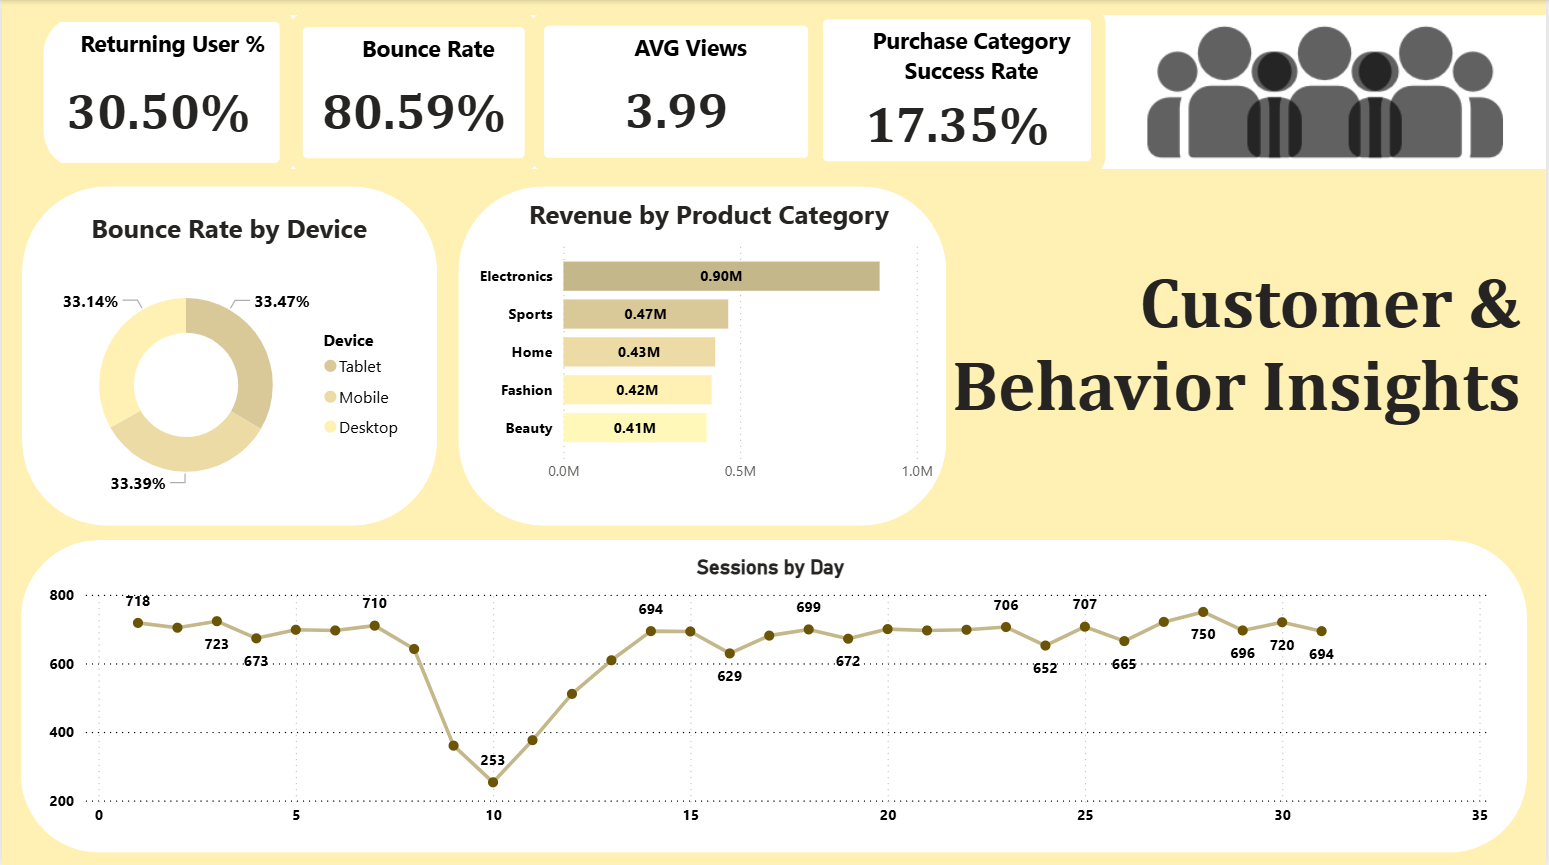

The page's visual inventory and layout, read from the dashboard file:
{"tool":"powerbi","page":{"name":"Customer & Behavior Insights","canvas":[1280,720],"ordinal":2},"visuals":[{"type":"shape","box":[16.3,154.7,344.2,281.4],"z":0},{"type":"donutChart","fields":{"Category":["realistic_funnel_data.Device"],"Y":["realistic_funnel_data.Bounce Rate"]},"box":[33.7,174.4,308.1,261.6],"z":1000},{"type":"shape","box":[377.9,154.7,404.7,281.4],"z":2000},{"type":"barChart","title":"Revenue by Product Category","fields":{"Category":["realistic_funnel_data.Product_Category"],"Y":["Sum(realistic_funnel_data.Revenue)"]},"box":[389.5,162.8,393,246.5],"z":3000},{"type":"shape","box":[15.1,447.7,1248.8,259.3],"z":4000},{"type":"lineChart","fields":{"Category":["realistic_funnel_data.Date.Variation.Date Hierarchy.Day"],"Y":["realistic_funnel_data.Sessions"]},"box":[33.7,460.5,1205.8,233.7],"z":5000},{"type":"shape","box":[33.7,12.8,1246.5,127.9],"z":6000},{"type":"card","title":"Returning User %","fields":{"Values":["realistic_funnel_data.Returning User %"]},"box":[16.3,5.8,225.6,140.7],"z":7000},{"type":"card","title":"Bounce Rate","fields":{"Values":["realistic_funnel_data.Bounce Rate"]},"box":[237.2,10.5,208.1,132.6],"z":8000},{"type":"card","title":"AVG Views","fields":{"Values":["realistic_funnel_data.Average Views per User"]},"box":[437.2,9.3,243,133.7],"z":9000},{"type":"card","title":"Purchase Category Success Rate","fields":{"Values":["realistic_funnel_data.Product Category Success Rate"]},"box":[668.6,4.7,246.5,141.9],"z":10000},{"type":"textbox","box":[686,210.5,577.9,225.6],"z":11000},{"type":"image","box":[929.1,16,167.4,122.1],"z":12000},{"type":"image","box":[1096.5,16,167.4,122.1],"z":13000},{"type":"image","box":[1012.8,16,167.4,122.1],"z":14000}]}

Visuals, with their boxes in screenshot pixels (x1, y1, x2, y2), scaled from the page's 1280x720 canvas onto the 1549x865 screenshot:
shape: [x1=20, y1=186, x2=436, y2=524]
donutChart - realistic_funnel_data.Device x realistic_funnel_data.Bounce Rate: [x1=41, y1=210, x2=414, y2=524]
shape: [x1=457, y1=186, x2=947, y2=524]
"Revenue by Product Category" barChart: [x1=471, y1=196, x2=947, y2=492]
shape: [x1=18, y1=538, x2=1530, y2=849]
lineChart - realistic_funnel_data.Date.Variation.Date Hierarchy.Day x realistic_funnel_data.Sessions: [x1=41, y1=553, x2=1500, y2=834]
shape: [x1=41, y1=15, x2=1548, y2=169]
"Returning User %" card: [x1=20, y1=7, x2=293, y2=176]
"Bounce Rate" card: [x1=287, y1=13, x2=539, y2=172]
"AVG Views" card: [x1=529, y1=11, x2=823, y2=172]
"Purchase Category Success Rate" card: [x1=809, y1=6, x2=1107, y2=176]
textbox: [x1=830, y1=253, x2=1530, y2=524]
image: [x1=1124, y1=19, x2=1327, y2=166]
image: [x1=1327, y1=19, x2=1530, y2=166]
image: [x1=1226, y1=19, x2=1428, y2=166]
